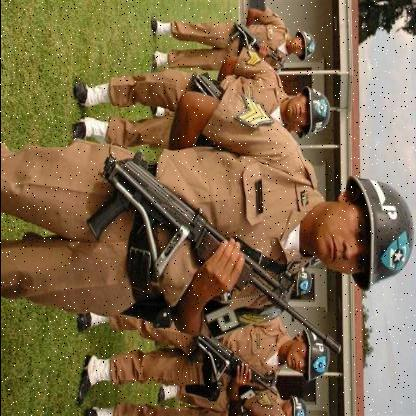rifle: (83, 140, 356, 360), (184, 331, 283, 407)
